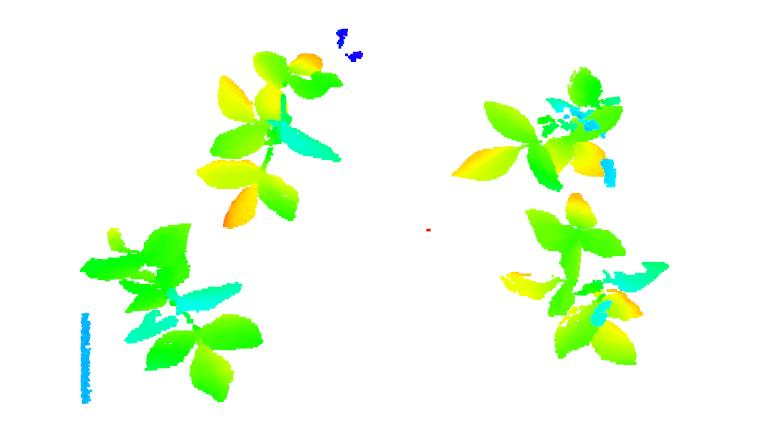mungbean: (77, 219, 265, 401), (502, 189, 668, 374), (193, 47, 347, 228), (452, 63, 631, 192)
